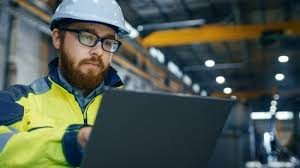Person_wearing_helmet: (43, 0, 131, 50)
